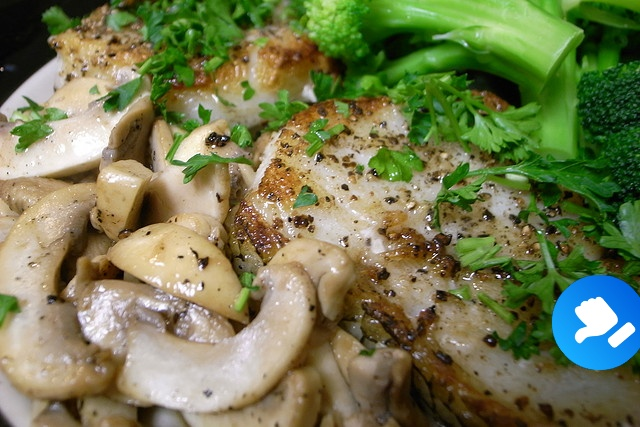like: (552, 275, 640, 370)
